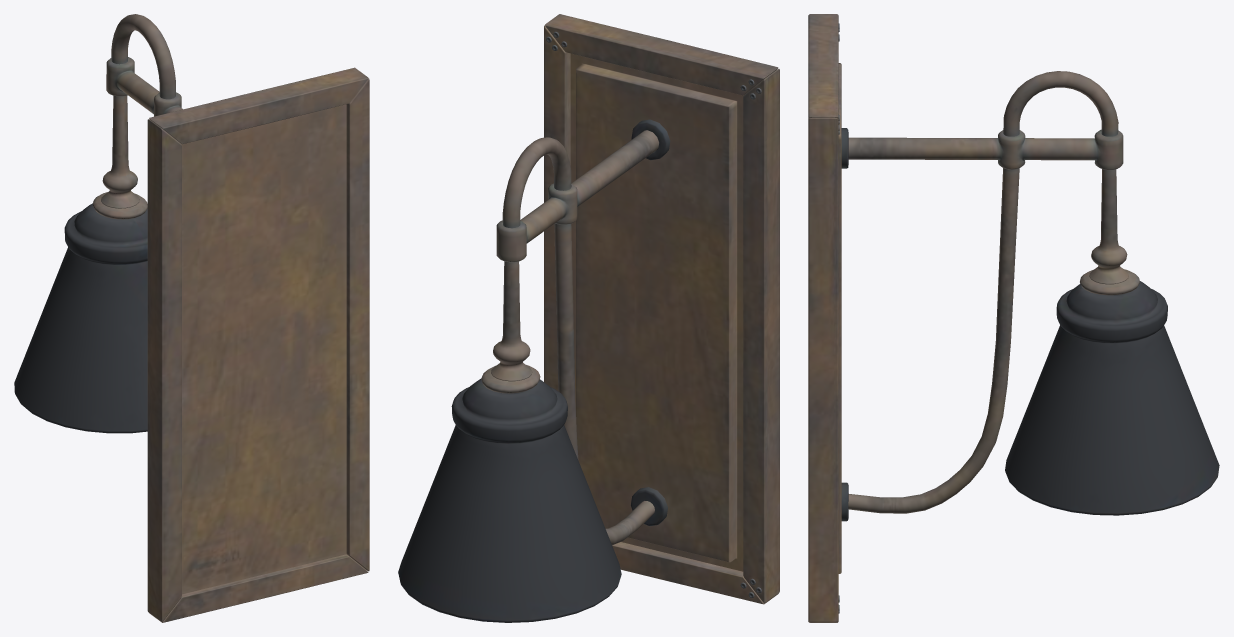
The model's file is industrial_wall_sconce.glb.
3 views of the same model, side by side, from view 1: azimuth 30°, elevation 25°; view 2: azimuth 150°, elevation 25°; view 3: azimuth 270°, elevation 25° (orthographic). The views are drawn at different scales.
Visible parts, largest first — view 1: industrial_wall_sconce; view 2: industrial_wall_sconce; view 3: industrial_wall_sconce.
Boxes of the visible parts, x1=… form: industrial_wall_sconce: x1=14, y1=14, x2=369, y2=622; industrial_wall_sconce: x1=398, y1=14, x2=779, y2=622; industrial_wall_sconce: x1=808, y1=14, x2=1219, y2=622.
Size of the model in its own units: 0.1503 by 0.3418 by 0.2516.
2 materials, 2 textured.
